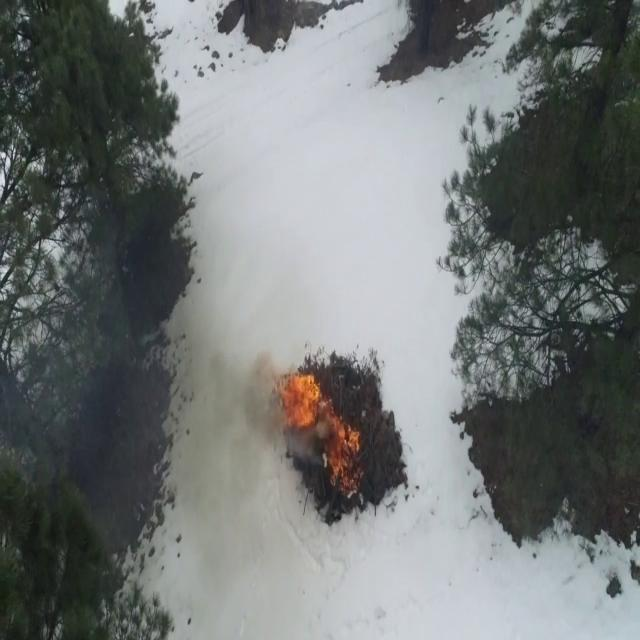fire: (328, 422, 364, 498), (278, 370, 320, 432)
